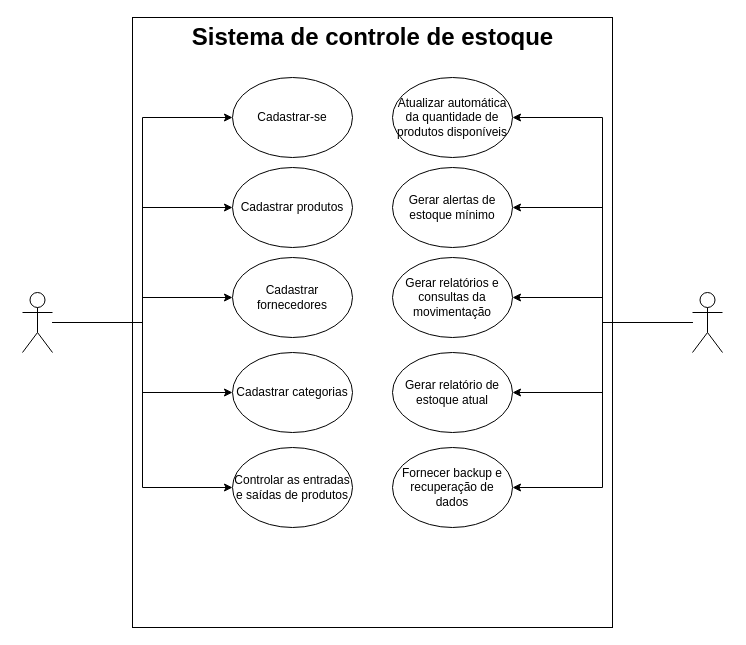
Image size: 746x645. Some labels were removed from this diagram. Each missing label, with the centre of its shape:
Sistema: point (707, 322)
Usuário: point (37, 322)
